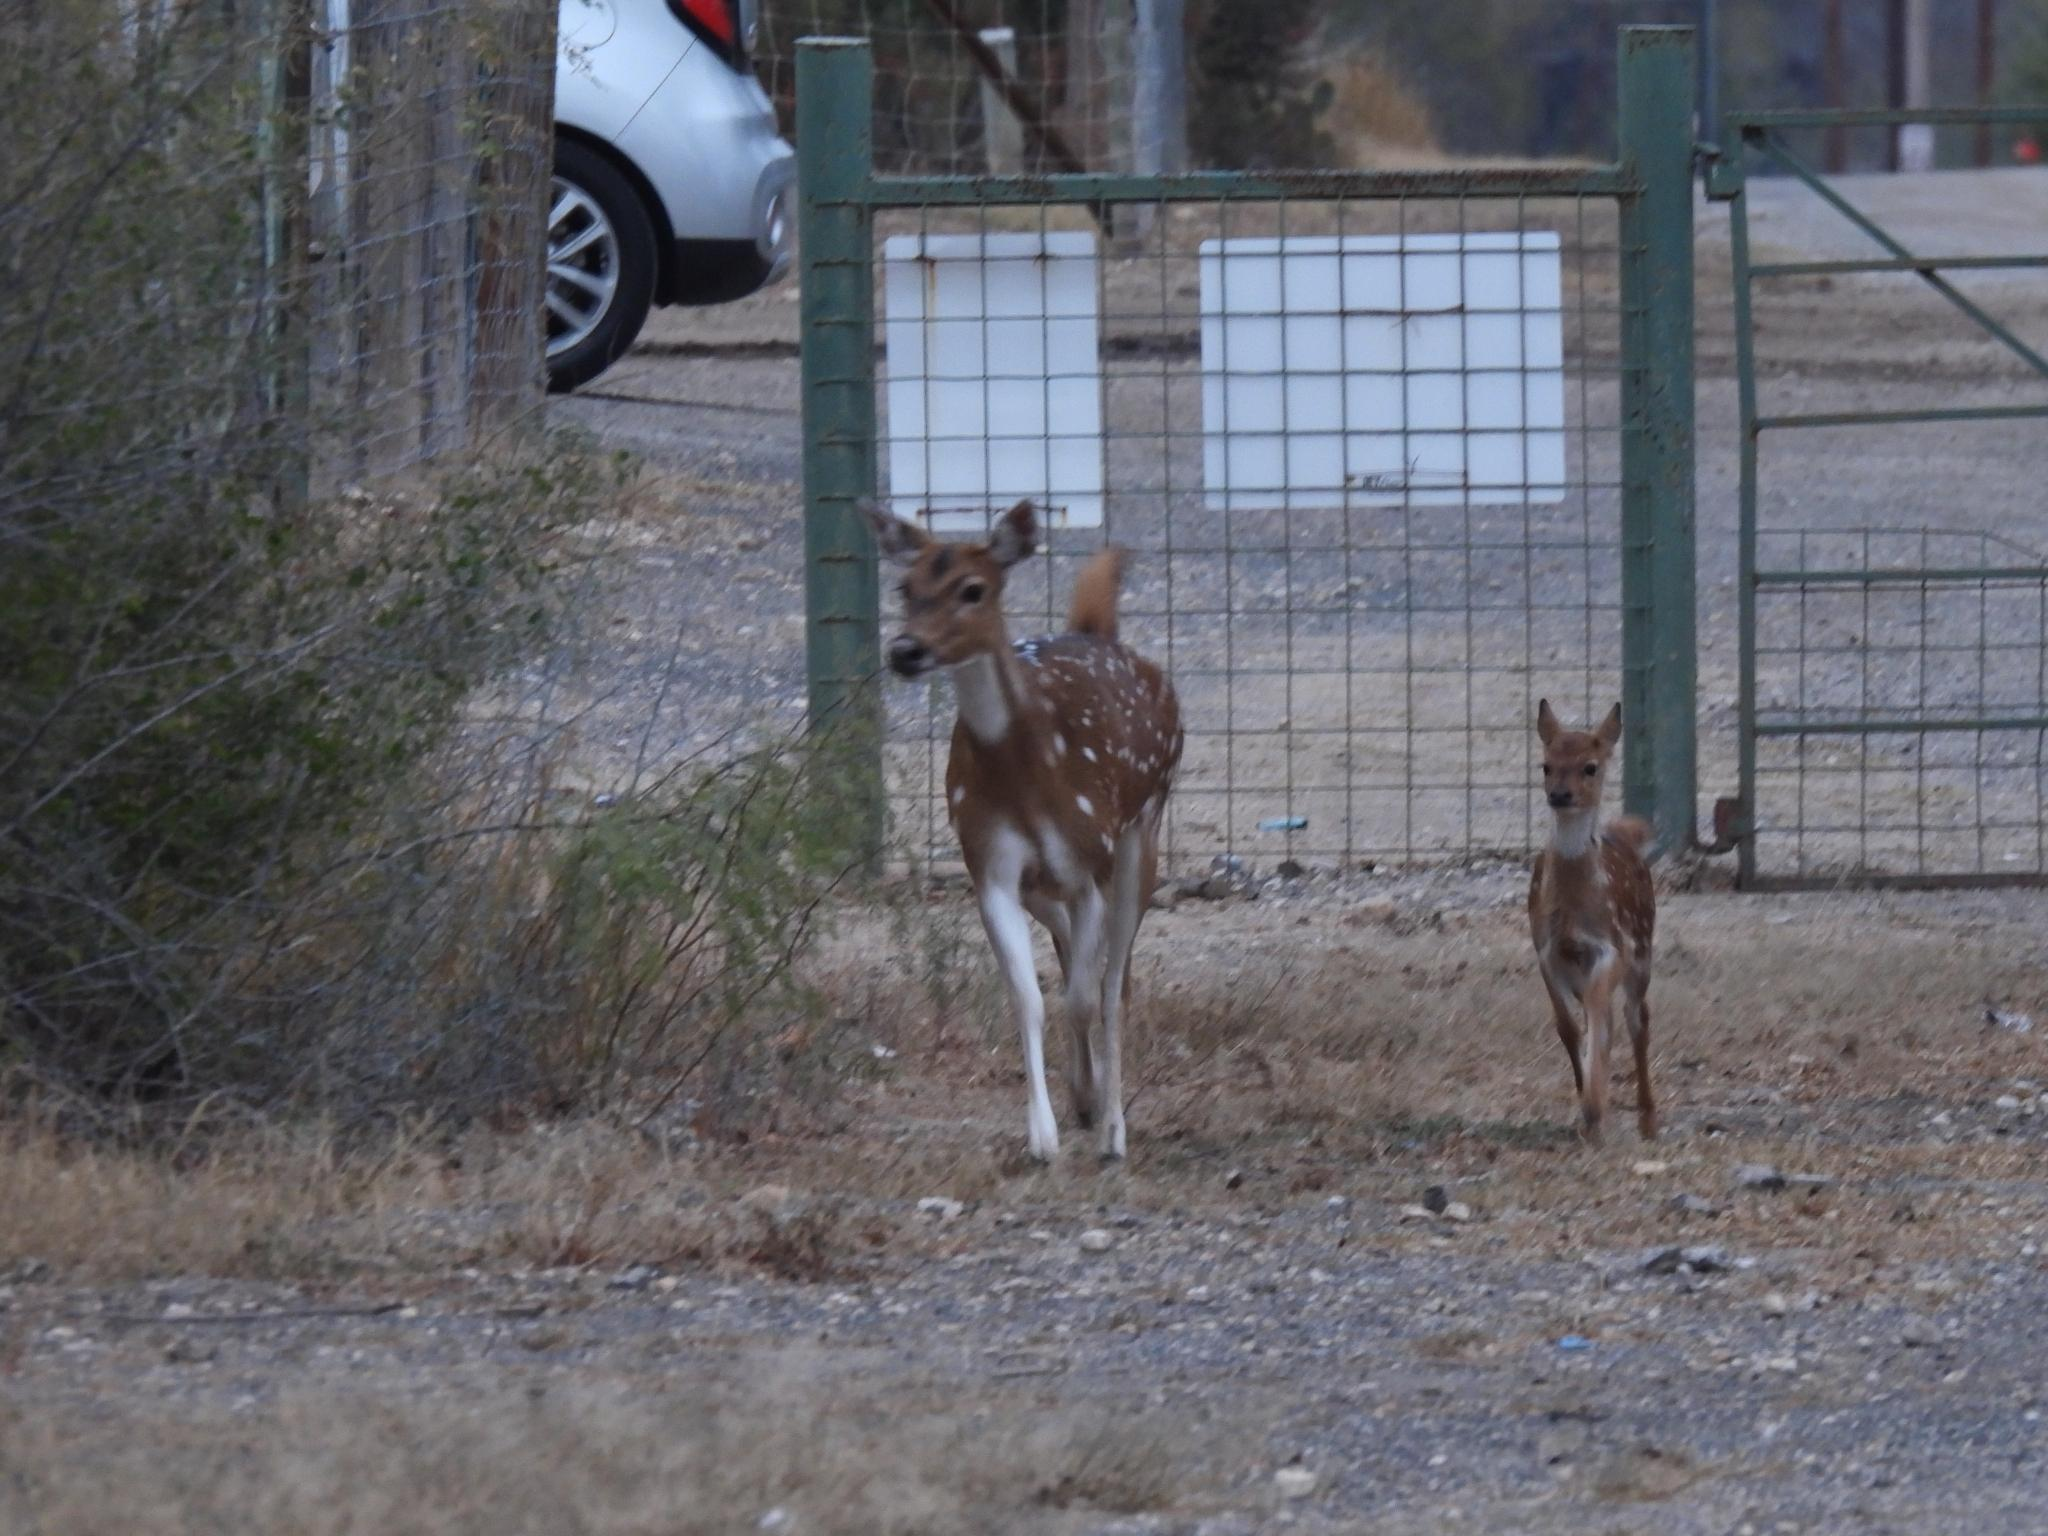Deer: (861, 501, 1183, 1161), (1528, 699, 1658, 1142)
